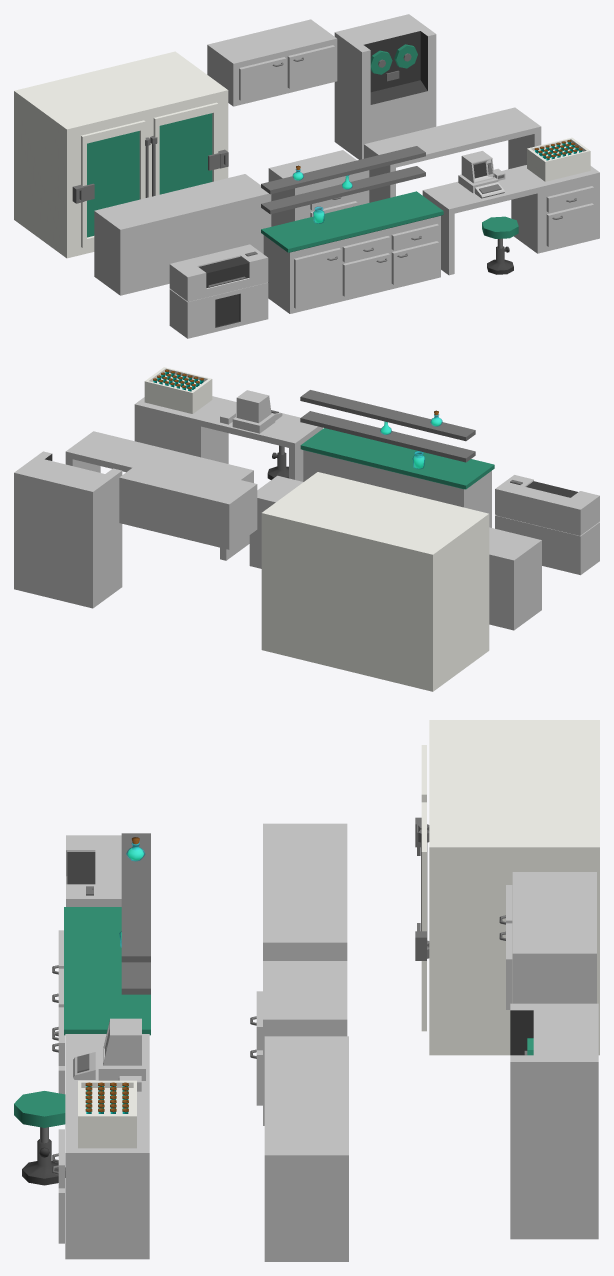
3 views of the same model, one above another, from view 1: azimuth 30°, elevation 25°; view 2: azimuth 150°, elevation 25°; view 3: azimuth 270°, elevation 25° (orthographic). The views are drawn at different scales.
Parts seen in each view (by area): view 1: frezzer, balcony_center, balcony_base, record, balcony_seat, air_balcony, balcony_printer, balcony_table, balcony_bidet, box_samples, computer, chair (+1 smaller); view 2: frezzer, record, balcony_center, air_balcony, balcony_printer, balcony_seat, balcony_base, balcony_table, box_samples, computer, balcony_bidet, samples (+1 smaller); view 3: frezzer, record, balcony_table, balcony_center, balcony_seat, air_balcony, balcony_base, balcony_bidet, balcony_printer, box_samples, computer, chair (+1 smaller).
Part boxes in pixels (x1,y1,x2,y2): frezzer: (14, 51, 228, 258); balcony_center: (261, 146, 443, 313); balcony_base: (94, 174, 271, 295); record: (334, 14, 436, 159); balcony_seat: (422, 165, 599, 275); air_balcony: (207, 19, 337, 106); balcony_printer: (169, 244, 268, 338); balcony_table: (364, 107, 541, 202); balcony_bidet: (268, 150, 369, 226); box_samples: (527, 137, 590, 181); computer: (458, 151, 505, 198); chair: (482, 216, 518, 274); frezzer: (261, 472, 489, 691); record: (14, 451, 122, 608); balcony_center: (300, 390, 494, 527); air_balcony: (119, 457, 257, 549); balcony_printer: (495, 475, 599, 575); balcony_seat: (134, 396, 322, 481); balcony_base: (489, 527, 541, 630); balcony_table: (65, 431, 253, 560); box_samples: (144, 367, 212, 413); computer: (220, 390, 282, 433); balcony_bidet: (249, 475, 303, 568); samples: (153, 369, 203, 391); frezzer: (415, 720, 599, 1055); record: (510, 1003, 598, 1239); balcony_table: (264, 1036, 348, 1261); balcony_center: (52, 833, 150, 1094); balcony_seat: (52, 1034, 149, 1259); air_balcony: (499, 872, 596, 1009); balcony_base: (263, 823, 347, 960); balcony_bidet: (250, 961, 347, 1125); balcony_printer: (66, 835, 121, 906); box_samples: (78, 1080, 136, 1148); computer: (73, 1018, 145, 1091); chair: (14, 1091, 65, 1185).
Bounding box in the file's own units: 18.68 × 5.44 × 13.87.
